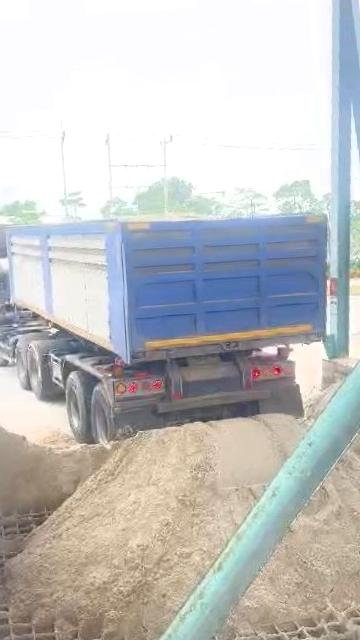sand: (10, 415, 303, 639), (230, 453, 360, 629), (0, 412, 117, 520), (306, 382, 340, 422), (117, 212, 214, 222), (0, 539, 22, 558), (353, 418, 360, 462)
